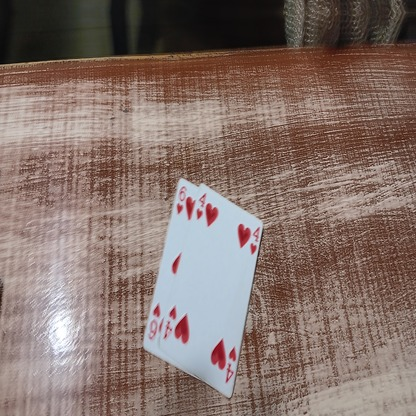4h: (222, 348, 239, 381), (164, 306, 177, 339), (196, 190, 207, 222), (250, 224, 261, 254)
6h: (148, 305, 161, 340), (177, 183, 186, 214)
